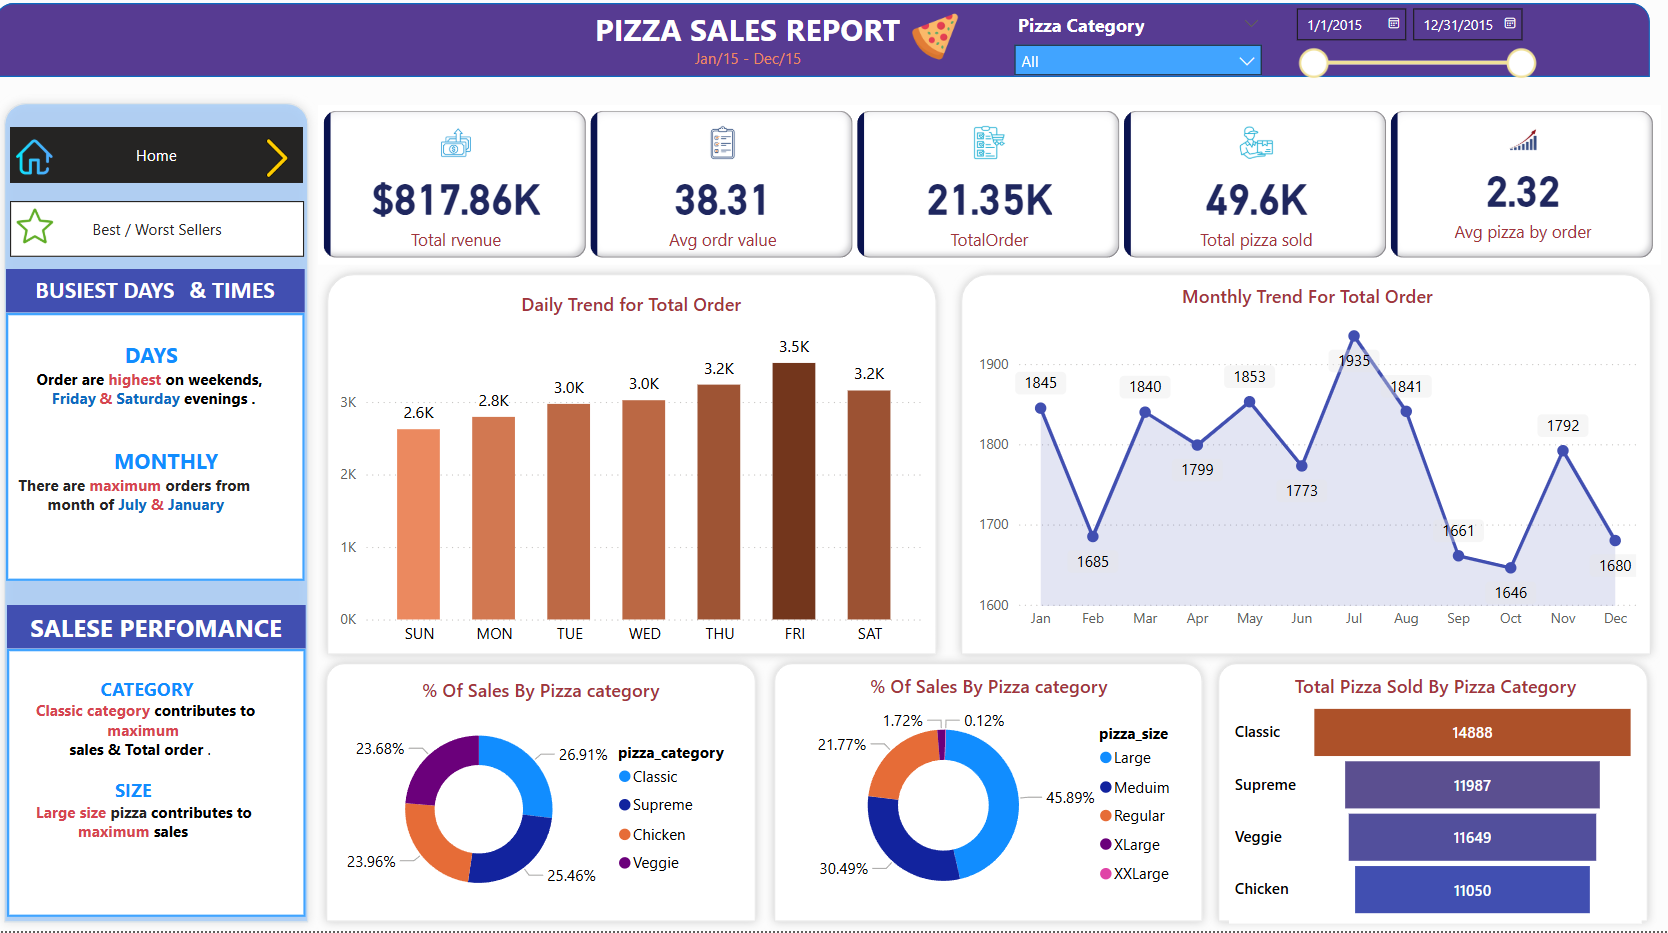

This screenshot's page, from the dashboard's own definition file:
{"tool":"powerbi","page":{"name":"Home","canvas":[1500,820],"ordinal":0},"visuals":[{"type":"cardVisual","fields":{"Data":["measurs.Total rvenue","measurs.Avg ordr value","measurs.TotalOrder","measurs.Total pizza sold","measurs.Avg pizza by order"]},"box":[283,94.3,1177.9,139.6],"z":0},{"type":"shape","box":[0,5.5,1451.6,64.8],"z":1000},{"type":"textbox","box":[512.2,4.7,295.9,52.3],"z":2000},{"type":"textbox","box":[609.1,39.8,116.3,35.9],"z":3000},{"type":"image","box":[795.2,8.4,57.5,52.1],"z":4000},{"type":"shape","box":[283,235.4,550.6,349.7],"z":5000},{"type":"columnChart","title":"Daily Trend for Total Order","fields":{"Category":["pizza_sales.order day"],"Y":["measurs.TotalOrder"]},"box":[297.5,258.4,521.5,318.3],"z":6000},{"type":"shape","box":[839.7,235.4,621.2,349.7],"z":7000},{"type":"areaChart","title":"Monthly Trend For Total Order","fields":{"Category":["pizza_sales.order month"],"Y":["measurs.TotalOrder"]},"box":[858.1,251.5,586.7,311.3],"z":8000},{"type":"shape","box":[1065.1,576.5,393,242.8],"z":9000},{"type":"shape","box":[282.7,576.5,393,242.8],"z":10000},{"type":"shape","box":[675.4,576.5,392,242.8],"z":11000},{"type":"shape","box":[0,85.1,283,734.7],"z":12000},{"type":"donutChart","title":"% Of Sales By Pizza category","fields":{"Category":["pizza_sales.pizza_category"],"Y":["measurs.Total rvenue"]},"box":[297.5,597.3,363.1,209.3],"z":13000},{"type":"donutChart","title":"% Of Sales By Pizza category","fields":{"Y":["measurs.Total rvenue"],"Category":["pizza_sales.pizza_size"]},"box":[690.3,593.4,363.1,209.3],"z":14000},{"type":"funnel","title":"Total Pizza Sold By Pizza Category","fields":{"Y":["measurs.Total pizza sold"],"Category":["pizza_sales.pizza_category"]},"box":[1082.2,593.4,362.3,219.4],"z":15000},{"type":"textbox","box":[9.4,238.9,261.6,38.3],"z":16000},{"type":"textbox","box":[9.4,277.2,261.6,235],"z":17000},{"type":"textbox","box":[10.2,571.6,261.6,235],"z":18000},{"type":"textbox","box":[10.2,533.3,261.6,38.3],"z":19000},{"type":"slicer","fields":{"Values":["pizza_sales.pizza_category"]},"box":[883.9,8.6,236.6,60.1],"z":20000},{"type":"slicer","fields":{"Values":["pizza_sales.order_date"]},"box":[1128.8,0,231.6,75.9],"z":21000},{"type":"pageNavigator","box":[13,114.3,257.7,49.8],"z":22000},{"type":"image","box":[196.3,119.6,101.2,44.5],"z":23000},{"type":"pageNavigator","box":[13,178.7,258.4,49.8],"z":24000},{"type":"image","box":[0,180.2,70.6,42.2],"z":24001},{"type":"image","box":[3.8,119.6,62.9,42.2],"z":24002}]}

Visuals, with their boxes in screenshot pixels (x1, y1, x2, y2), scaled from the page's 1500x820 canvas onto the 1668x933 screenshot:
cardVisual - measurs.Total rvenue x measurs.Avg ordr value: select_region(315, 107, 1625, 266)
shape: select_region(0, 6, 1614, 80)
textbox: select_region(570, 5, 899, 65)
textbox: select_region(677, 45, 807, 86)
image: select_region(884, 10, 948, 69)
shape: select_region(315, 268, 927, 666)
"Daily Trend for Total Order" columnChart: select_region(331, 294, 911, 656)
shape: select_region(934, 268, 1625, 666)
"Monthly Trend For Total Order" areaChart: select_region(954, 286, 1607, 640)
shape: select_region(1184, 656, 1621, 932)
shape: select_region(314, 656, 751, 932)
shape: select_region(751, 656, 1187, 932)
shape: select_region(0, 97, 315, 932)
"% Of Sales By Pizza category" donutChart: select_region(331, 680, 735, 918)
"% Of Sales By Pizza category" donutChart: select_region(768, 675, 1171, 913)
"Total Pizza Sold By Pizza Category" funnel: select_region(1203, 675, 1606, 925)
textbox: select_region(10, 272, 301, 315)
textbox: select_region(10, 315, 301, 583)
textbox: select_region(11, 650, 302, 918)
textbox: select_region(11, 607, 302, 650)
slicer - pizza_sales.pizza_category: select_region(983, 10, 1246, 78)
slicer - pizza_sales.order_date: select_region(1255, 0, 1513, 86)
pageNavigator: select_region(14, 130, 301, 187)
image: select_region(218, 136, 331, 187)
pageNavigator: select_region(14, 203, 302, 260)
image: select_region(0, 205, 79, 253)
image: select_region(4, 136, 74, 184)
